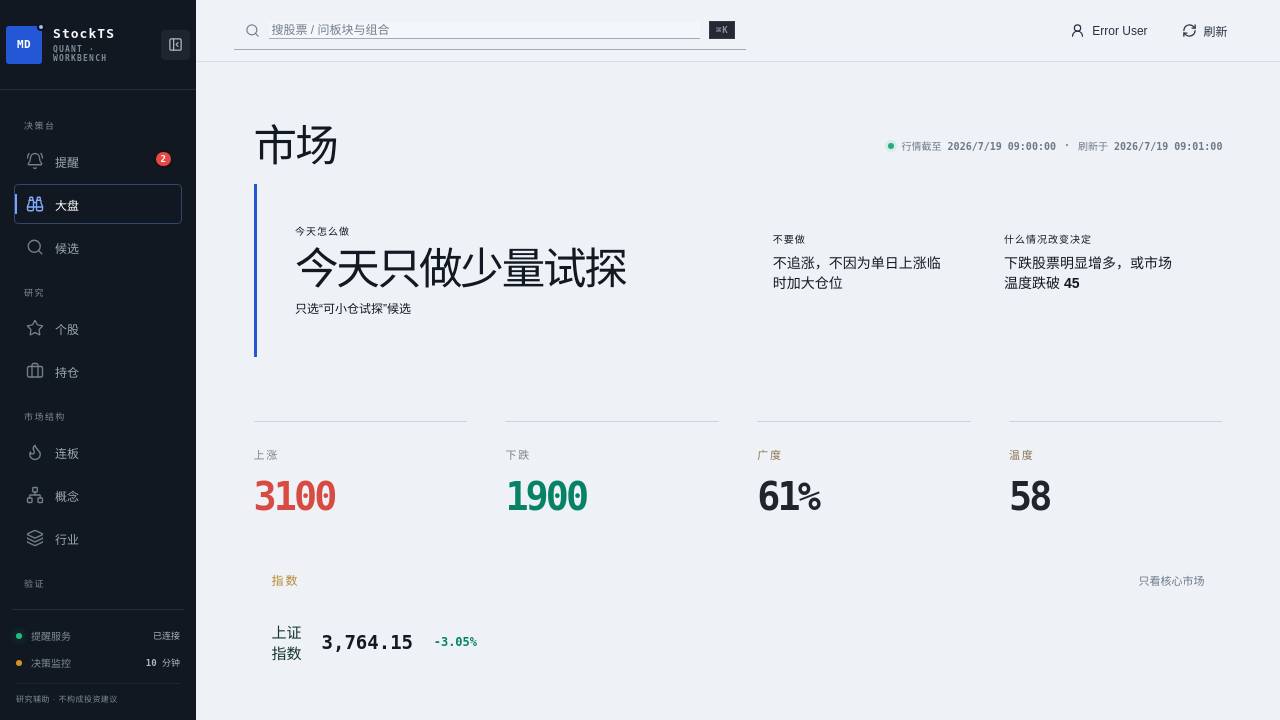
Test: keeps refresh failures visible without clearing the current workspace
The width and height of the screenshot is (1280, 720).
Check: the heading "市场" is shown, box [254,125,337,168]
Click the button "刷新". click: [1205, 30]
box: [1168,12,1242,48]
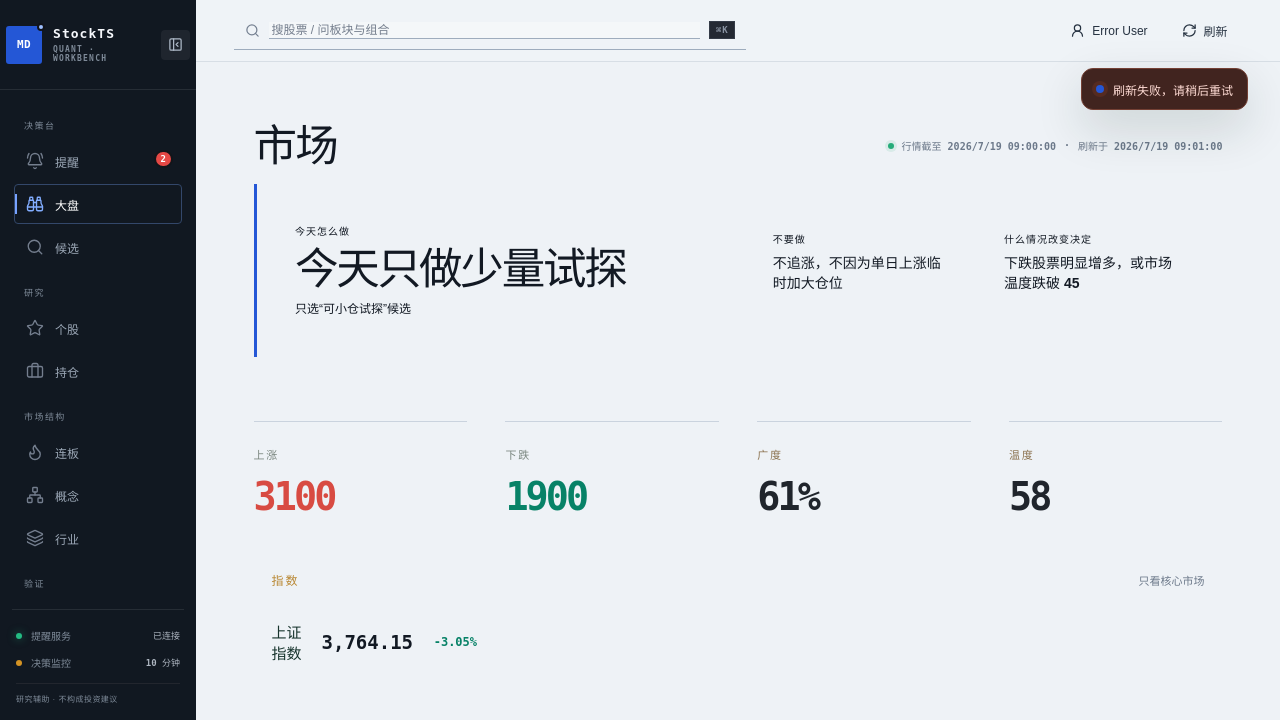
Check: the heading "市场" is shown, box [254,125,337,168]
Check: the message reads "刷新失败，请稍后重试", box [1113,84,1233,98]
